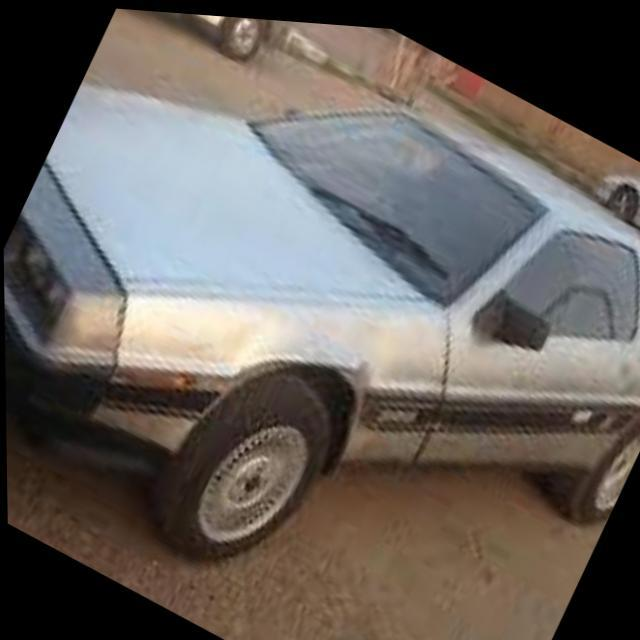rub: (216, 303, 365, 370)
